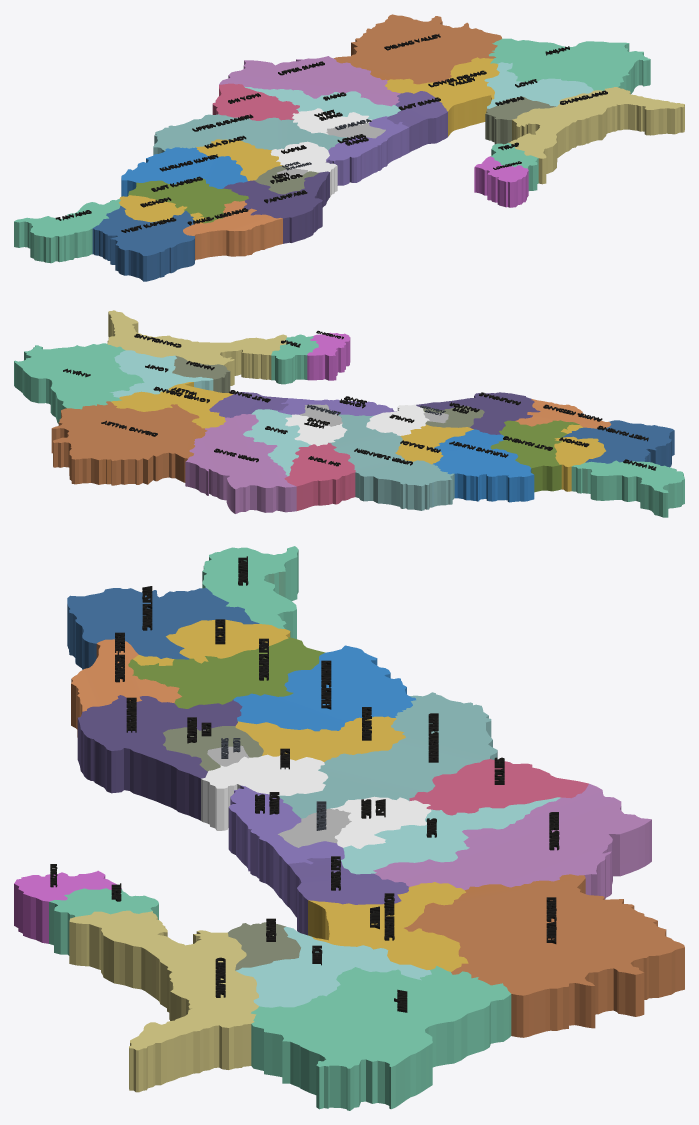
3 views of the same model, one above another, from view 1: azimuth 30°, elevation 25°; view 2: azimuth 150°, elevation 25°; view 3: azimuth 270°, elevation 25° (orthographic). The views are drawn at different scales.
Parts seen in each view (by area): view 1: CHANGLANG, DIBANG_VALLEY, ANJAW, WEST_KAMENG, UPPER_SIANG, UPPER_SUBANSIRI, TAWANG, PAKKE_KESSANG, LOWER_DIBANG_VALLEY, PAPUMPARE, KURUNG_KUMEY, LOWER_SIANG (+14 smaller); view 2: DIBANG_VALLEY, UPPER_SIANG, UPPER_SUBANSIRI, ANJAW, KURUNG_KUMEY, CHANGLANG, TAWANG, SHI_YOMI, WEST_KAMENG, EAST_KAMENG, LOWER_DIBANG_VALLEY, LOHIT (+14 smaller); view 3: DIBANG_VALLEY, ANJAW, CHANGLANG, UPPER_SIANG, PAPUMPARE, UPPER_SUBANSIRI, KURUNG_KUMEY, WEST_KAMENG, LOWER_DIBANG_VALLEY, EAST_KAMENG, LOHIT, LOWER_SIANG (+14 smaller).
Boxes of the visible parts, x1=… form: CHANGLANG: x1=508, y1=87, x2=684, y2=184; DIBANG_VALLEY: x1=334, y1=14, x2=501, y2=84; ANJAW: x1=489, y1=38, x2=650, y2=93; WEST_KAMENG: x1=92, y1=206, x2=194, y2=281; UPPER_SIANG: x1=219, y1=56, x2=400, y2=106; UPPER_SUBANSIRI: x1=153, y1=114, x2=346, y2=154; TAWANG: x1=14, y1=199, x2=120, y2=263; PAKKE_KESSANG: x1=183, y1=201, x2=282, y2=260; LOWER_DIBANG_VALLEY: x1=385, y1=57, x2=499, y2=136; PAPUMPARE: x1=222, y1=171, x2=329, y2=243; KURUNG_KUMEY: x1=121, y1=147, x2=247, y2=196; LOWER_SIANG: x1=326, y1=116, x2=409, y2=185; DIBANG_VALLEY: x1=51, y1=401, x2=207, y2=485; UPPER_SIANG: x1=185, y1=414, x2=296, y2=513; UPPER_SUBANSIRI: x1=328, y1=414, x2=454, y2=510; ANJAW: x1=14, y1=343, x2=144, y2=423; KURUNG_KUMEY: x1=433, y1=429, x2=534, y2=502; CHANGLANG: x1=107, y1=310, x2=286, y2=385; TAWANG: x1=571, y1=459, x2=684, y2=517; SHI_YOMI: x1=284, y1=443, x2=355, y2=510; WEST_KAMENG: x1=563, y1=420, x2=674, y2=467; EAST_KAMENG: x1=490, y1=420, x2=579, y2=492; LOWER_DIBANG_VALLEY: x1=111, y1=382, x2=233, y2=428; LOHIT: x1=110, y1=350, x2=213, y2=397; DIBANG_VALLEY: x1=404, y1=874, x2=684, y2=1037; ANJAW: x1=251, y1=966, x2=511, y2=1110; CHANGLANG: x1=69, y1=910, x2=258, y2=1092; UPPER_SIANG: x1=373, y1=783, x2=651, y2=899; PAPUMPARE: x1=77, y1=695, x2=242, y2=820; UPPER_SUBANSIRI: x1=279, y1=692, x2=497, y2=818; KURUNG_KUMEY: x1=233, y1=645, x2=415, y2=731; WEST_KAMENG: x1=67, y1=586, x2=259, y2=669; LOWER_DIBANG_VALLEY: x1=308, y1=882, x2=468, y2=971; EAST_KAMENG: x1=128, y1=637, x2=325, y2=708; LOHIT: x1=235, y1=926, x2=431, y2=1007; LOWER_SIANG: x1=228, y1=785, x2=344, y2=905.
Size of the model in its own units: 115 by 5.55 by 62.13.
Materials: 7 (2 with a texture image).
